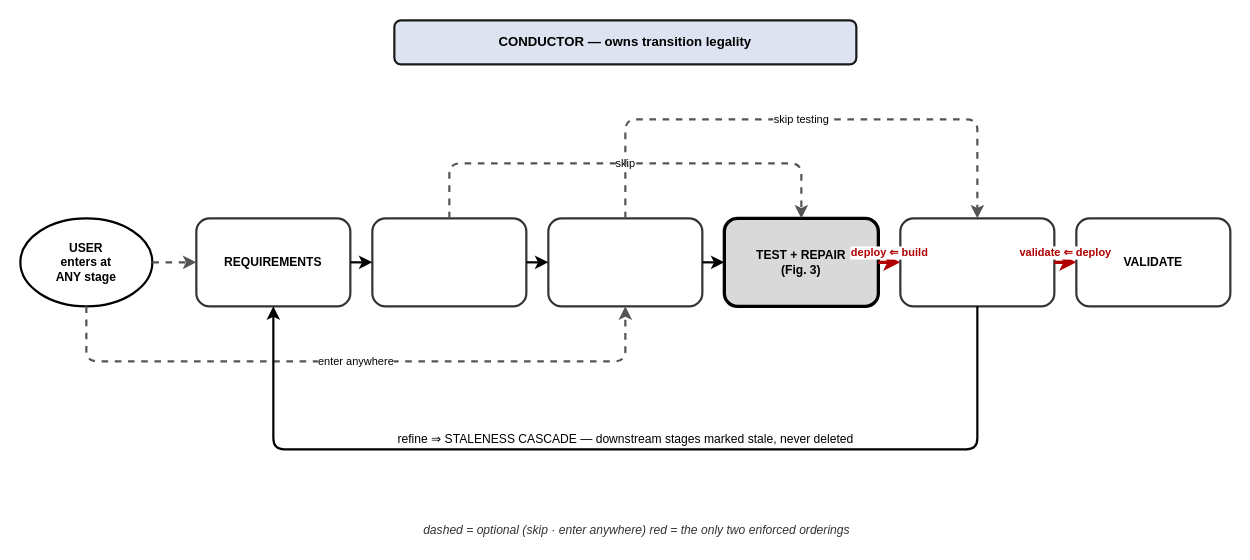
This 1250x560 diagram has some shape labels left out. The shapes that lost their labels are listed below. From the top down, each one's centre as x and y in pixels, then its label:
the point at 449,262: DESIGN
the point at 625,262: BUILD
the point at 977,262: DEPLOY
